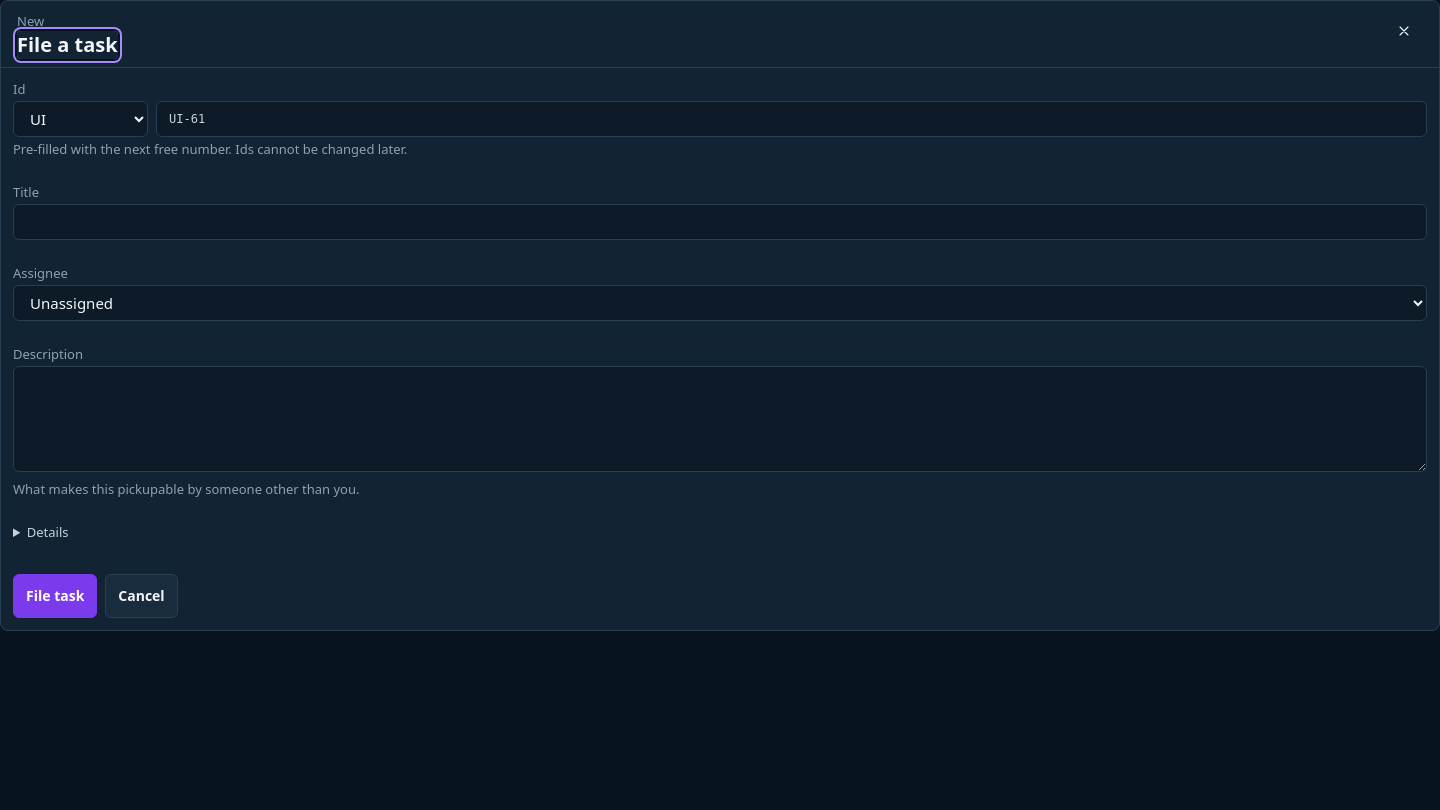
TaskCreatePanel › refuses a duplicate id before sending and offers the next free number
Replace the text in the field labelled "Id" with "UI-60": (792, 119) [156,101,1427,137]
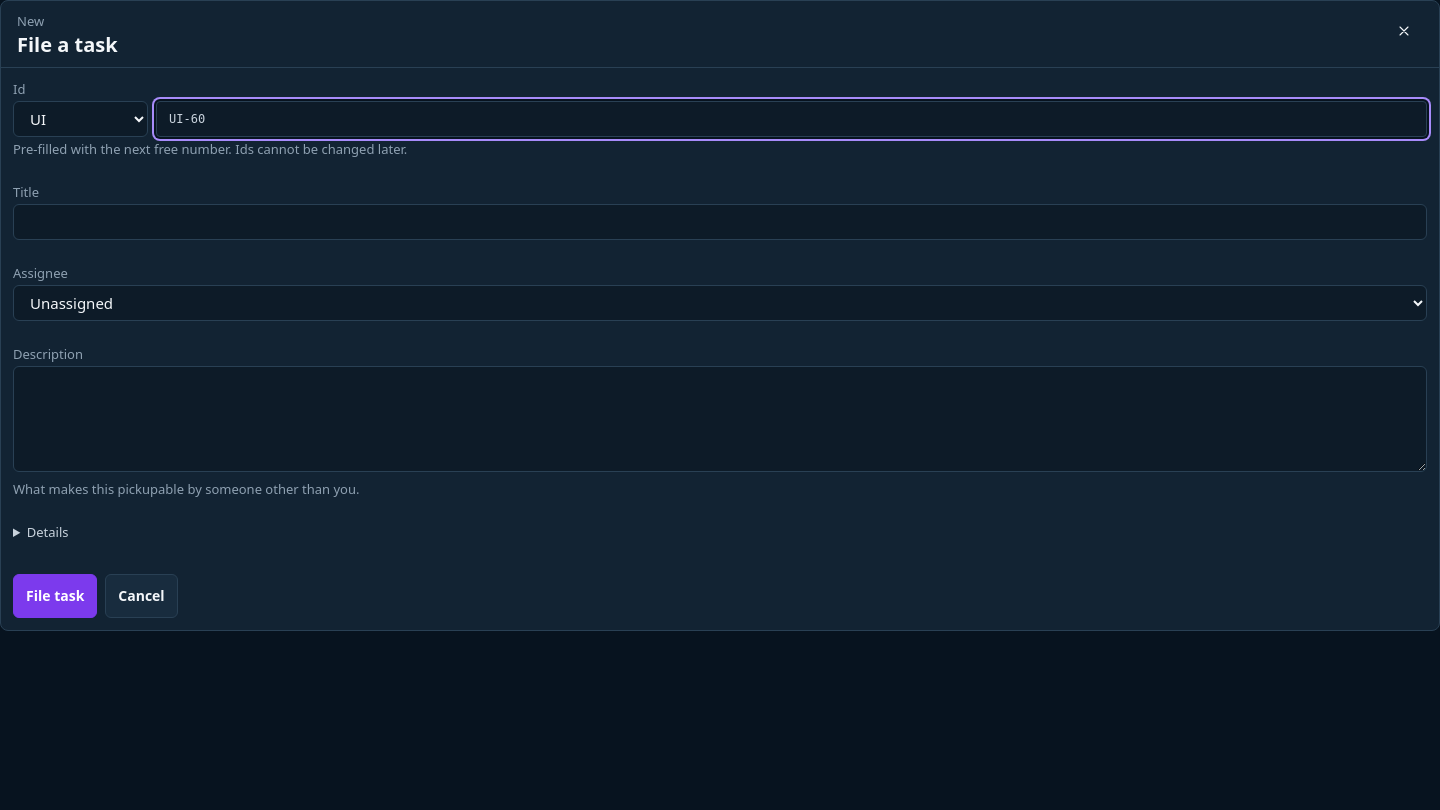
In the field labelled "Title": (720, 222) [13,204,1427,240], type "t"
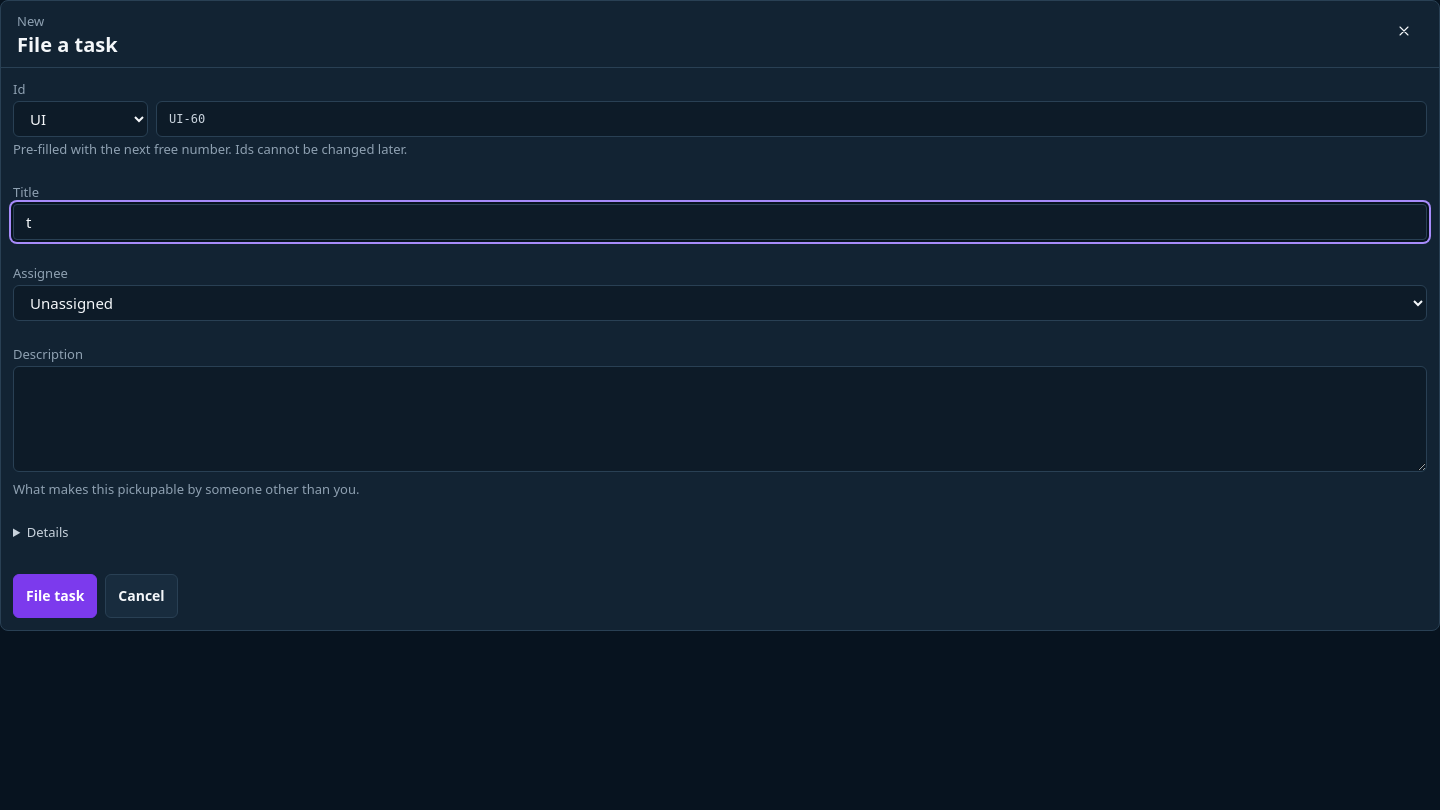
Click the button "File task": click(55, 596) [13,574,97,618]
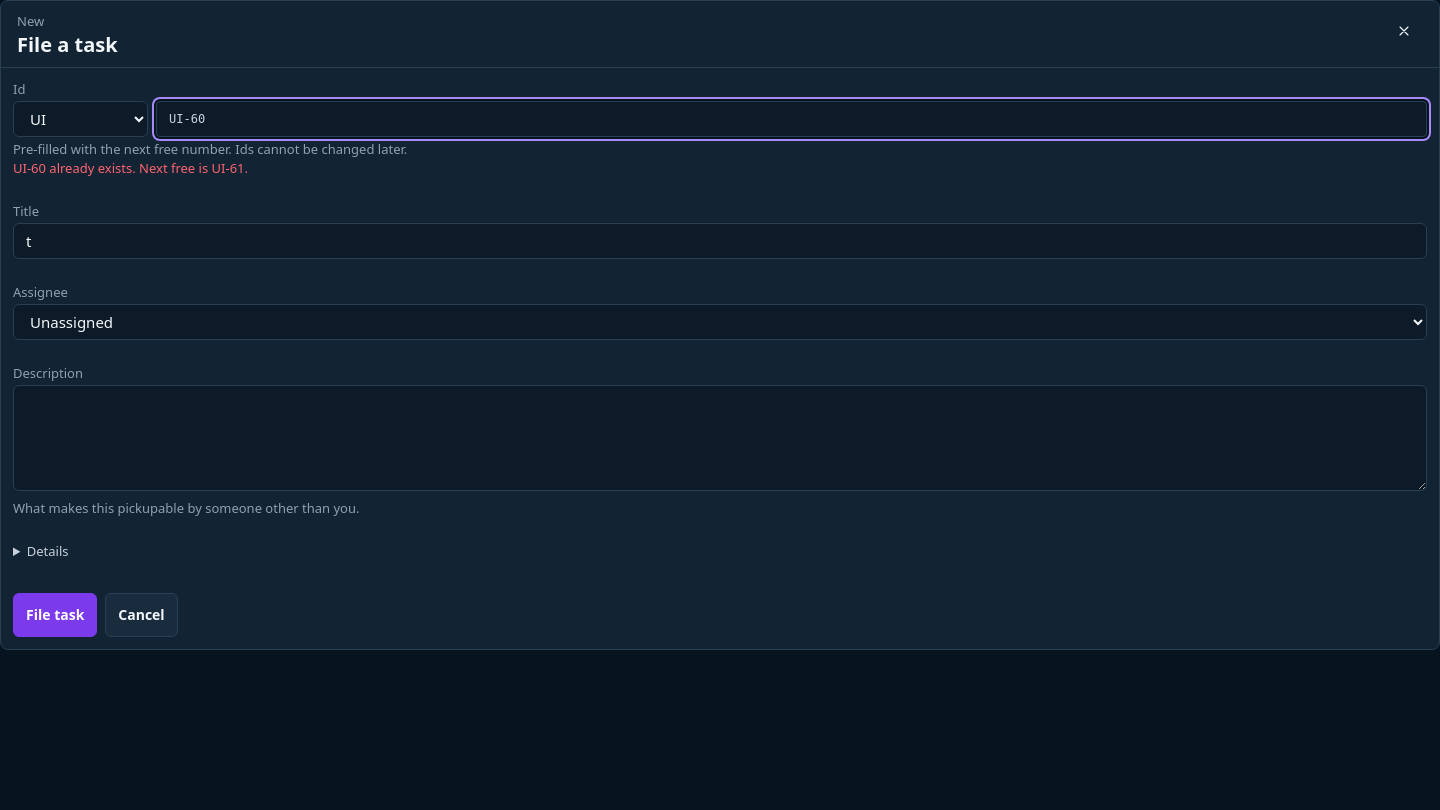
expect the message reads "UI-60 already exists. Next free is UI-61.": met, box [13,159,248,177]
